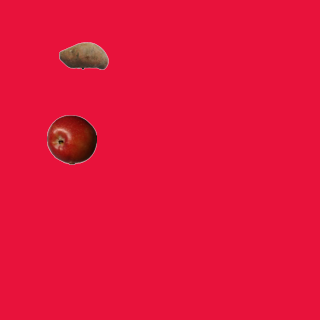Apple Braeburn: (46, 114, 96, 164)
Potato Sweet: (58, 30, 108, 80)
